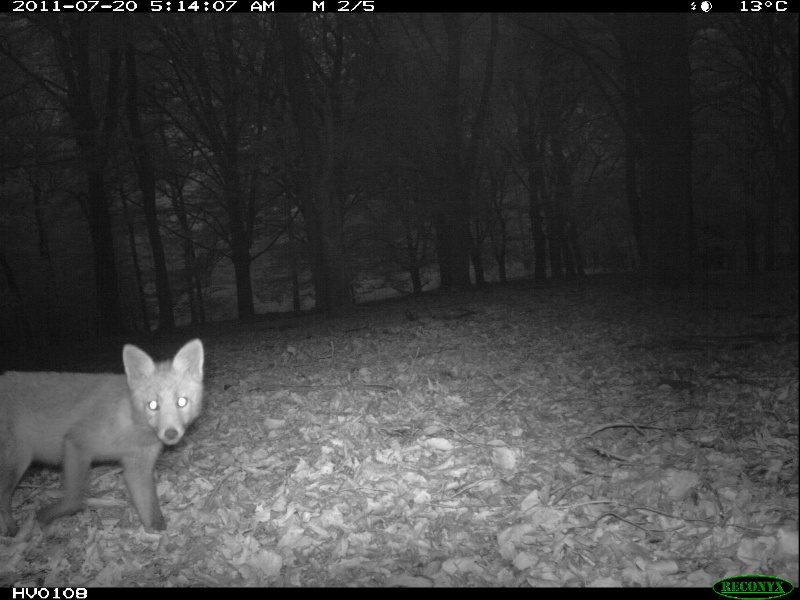fox: (1, 335, 215, 549)
